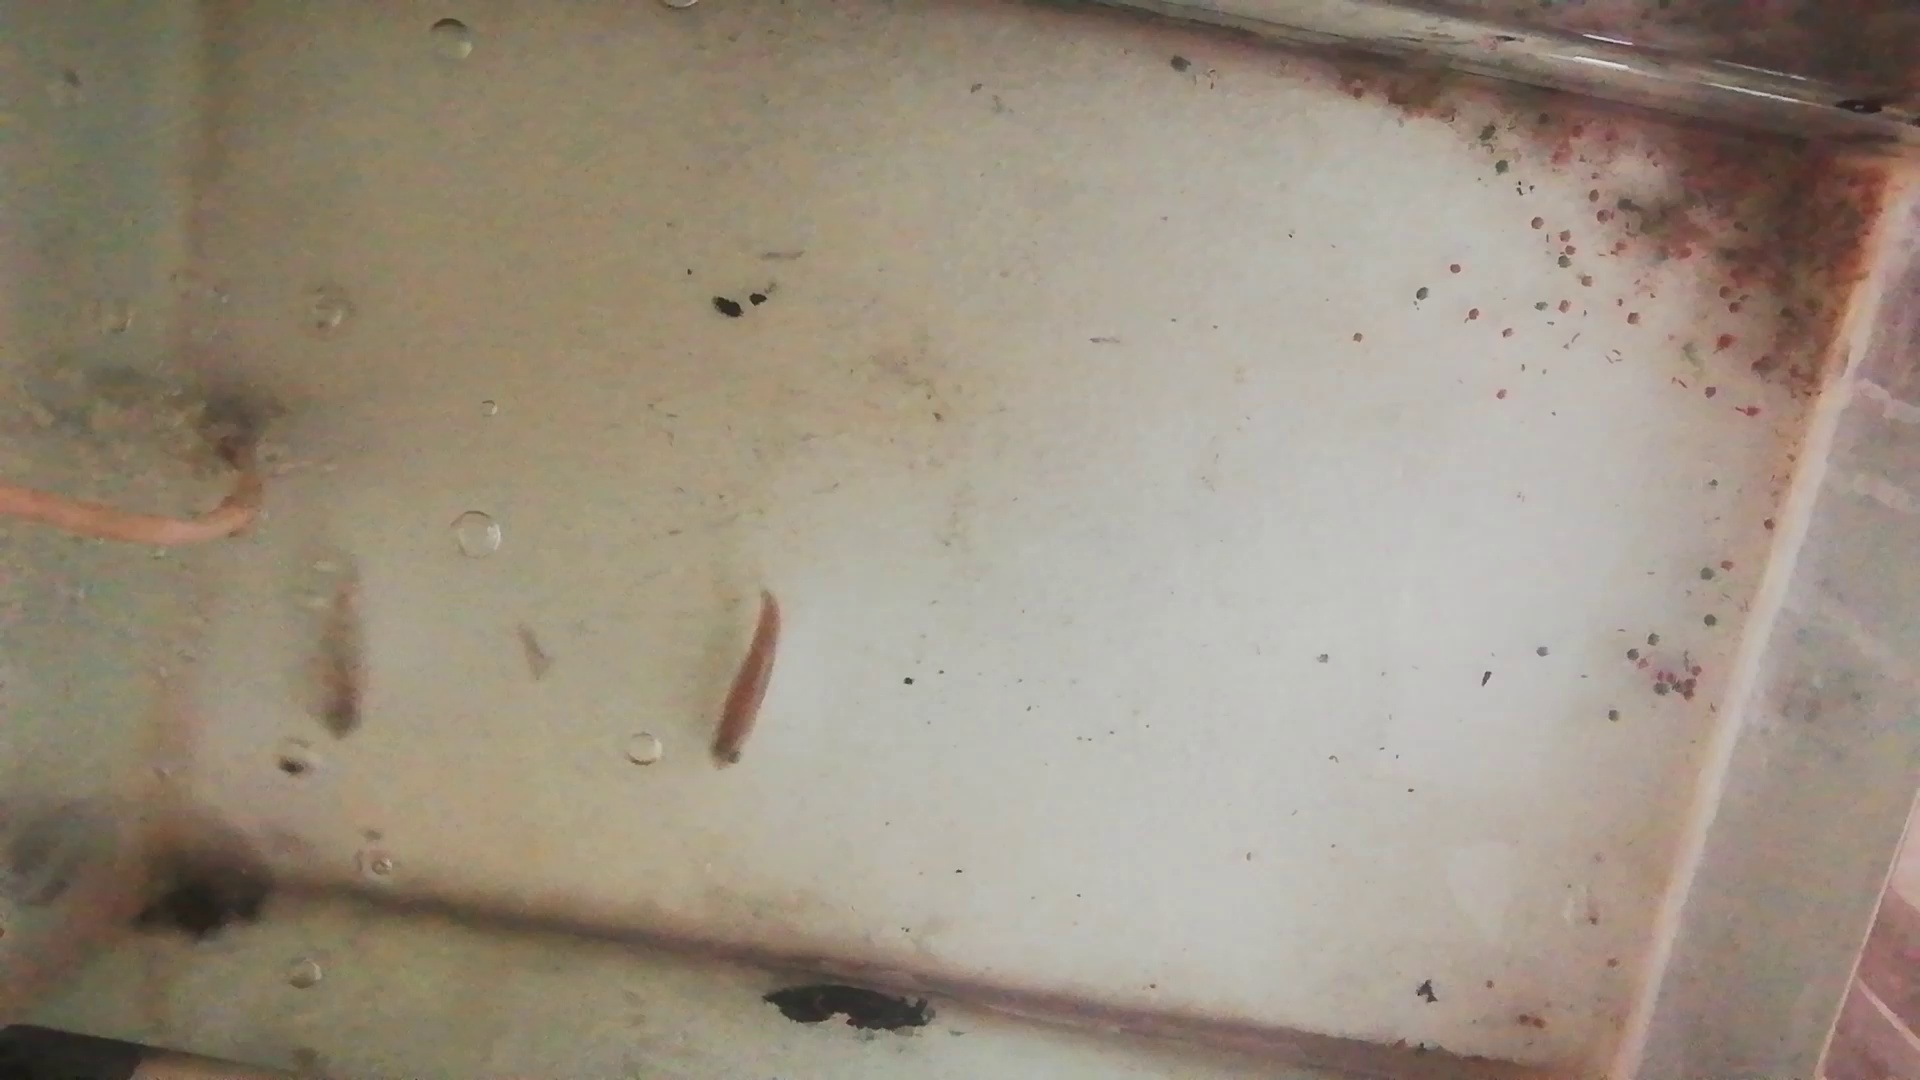fish: (705, 583, 786, 777), (305, 546, 373, 746)
